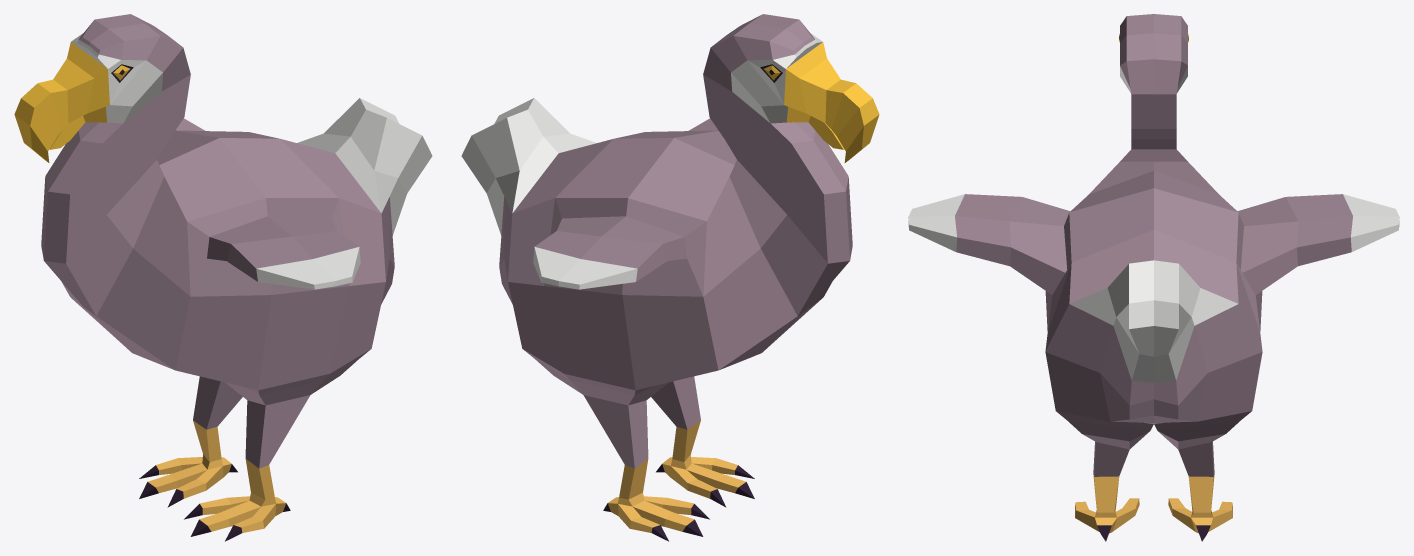
The model's file is Animals.fbx.
The picture shows the model from 3 angles, left to right: view 1: azimuth 30°, elevation 25°; view 2: azimuth 150°, elevation 25°; view 3: azimuth 270°, elevation 25°; orthographic projection. The views are drawn at different scales.
Visible parts, largest first — view 1: Dodo; view 2: Dodo; view 3: Dodo.
Boxes of the visible parts, x1=… form: Dodo: x1=14, y1=14, x2=432, y2=541; Dodo: x1=461, y1=14, x2=879, y2=541; Dodo: x1=908, y1=14, x2=1399, y2=541.
Size of the model in its own units: 78.43 by 95 by 91.87.
